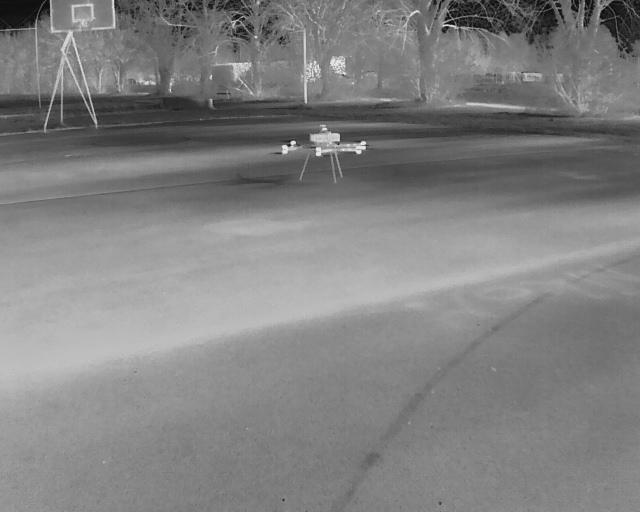drone: (271, 126, 368, 190)
